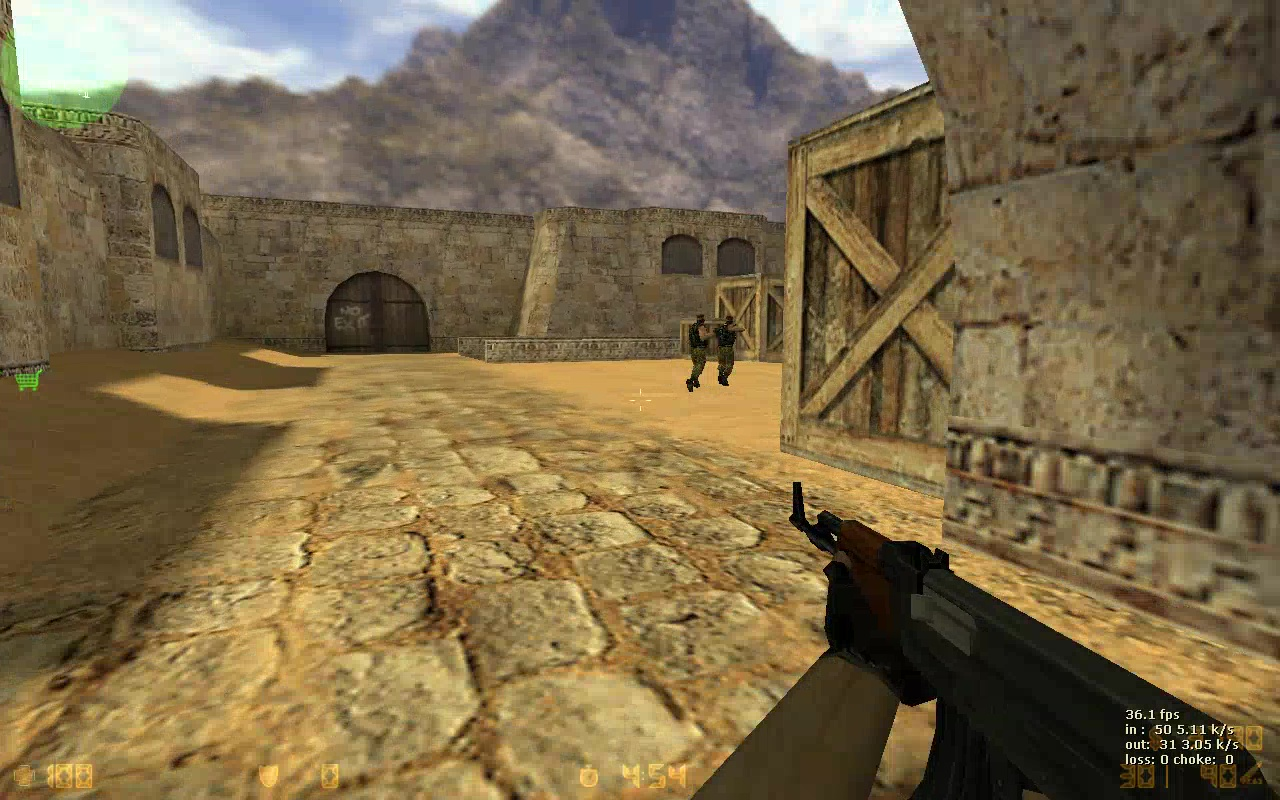terr1: (680, 315, 717, 394), (714, 316, 746, 389)
